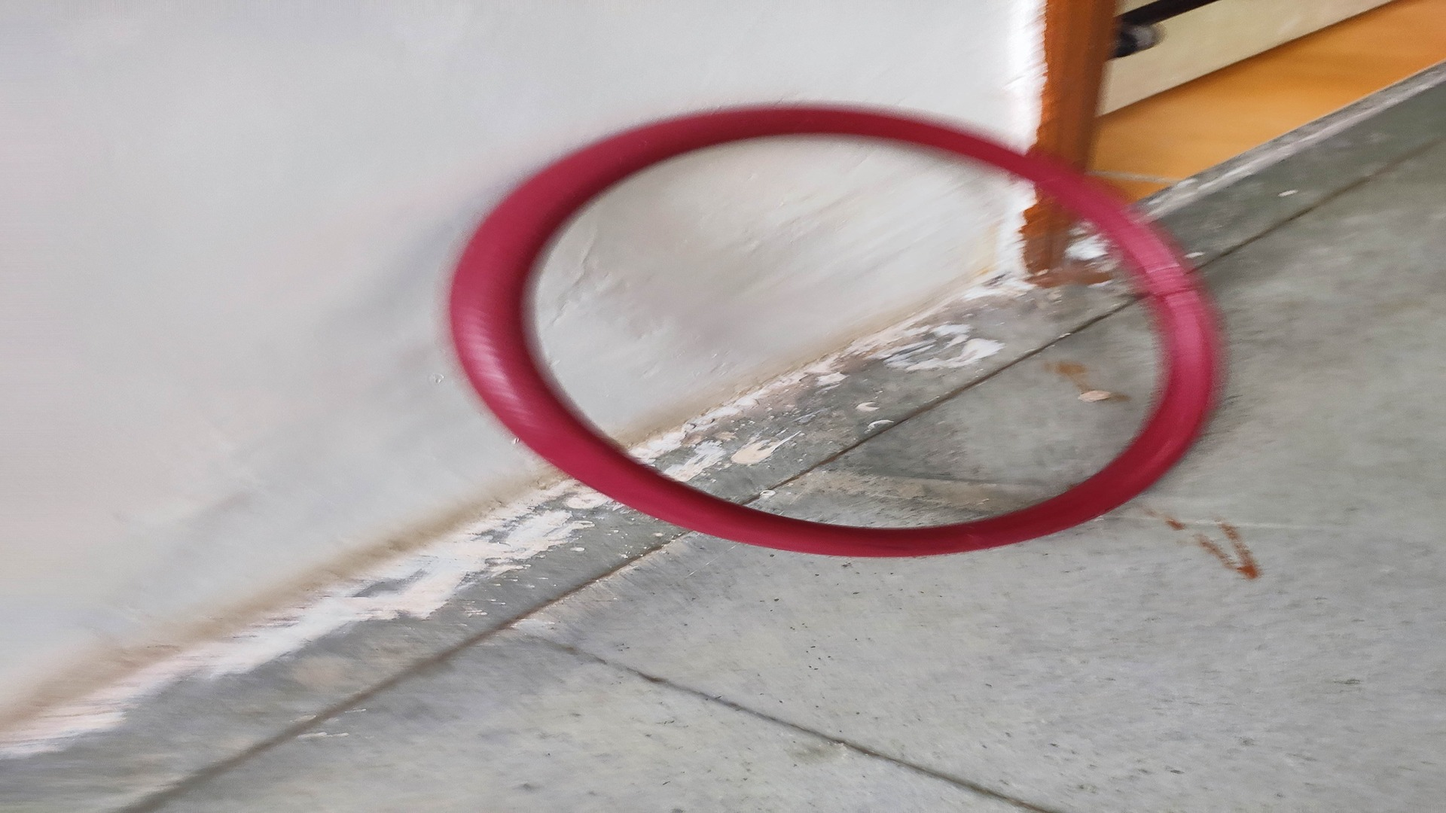Red ring: (451, 108, 1220, 562)
